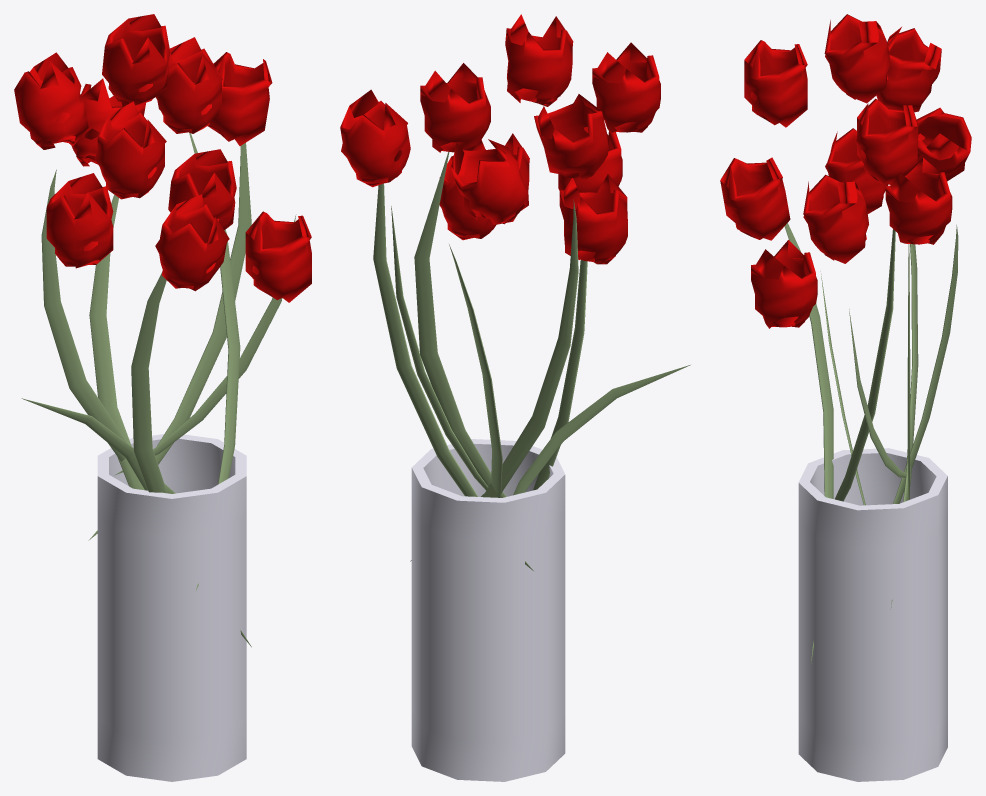
Rendered from bush_flowers.glb.
3 renders of one model, left to right at view 1: azimuth 30°, elevation 25°; view 2: azimuth 150°, elevation 25°; view 3: azimuth 270°, elevation 25°, orthographic. The views are drawn at different scales.
Parts seen in each view (by area): view 1: Flowers_1, Flowers_3, Flowers_2; view 2: Flowers_1, Flowers_3, Flowers_2; view 3: Flowers_1, Flowers_3, Flowers_2.
Part boxes in pixels (x1,y1,x2,y2): Flowers_1: [97, 434, 246, 781]; Flowers_3: [14, 14, 311, 302]; Flowers_2: [21, 132, 296, 647]; Flowers_1: [411, 439, 565, 781]; Flowers_3: [340, 14, 660, 264]; Flowers_2: [373, 151, 690, 570]; Flowers_1: [798, 448, 947, 781]; Flowers_3: [720, 14, 971, 328]; Flowers_2: [784, 223, 958, 663].
Size of the model in its own units: 0.209 by 0.5 by 0.159.
